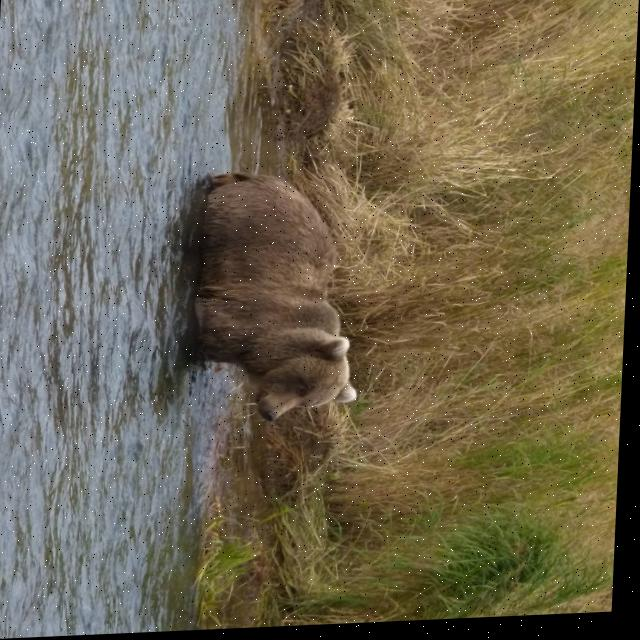bear face: (197, 174, 366, 427)
